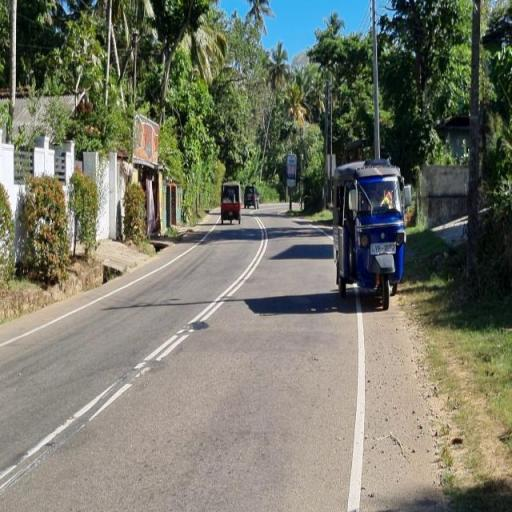double_white_line: (129, 221, 269, 376)
